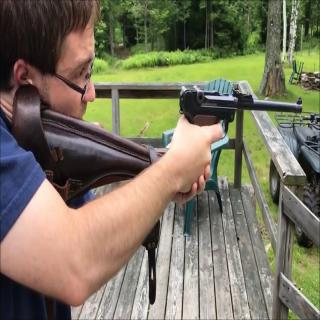gun: (9, 72, 306, 267)
